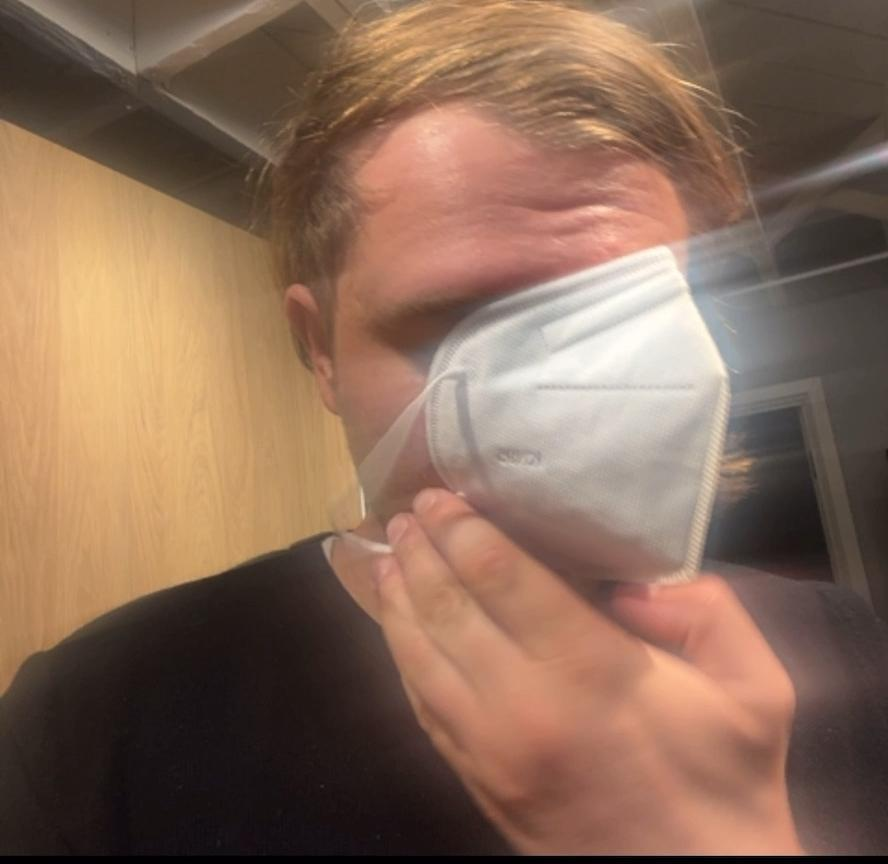NO-Hardhat: (264, 0, 767, 608)
